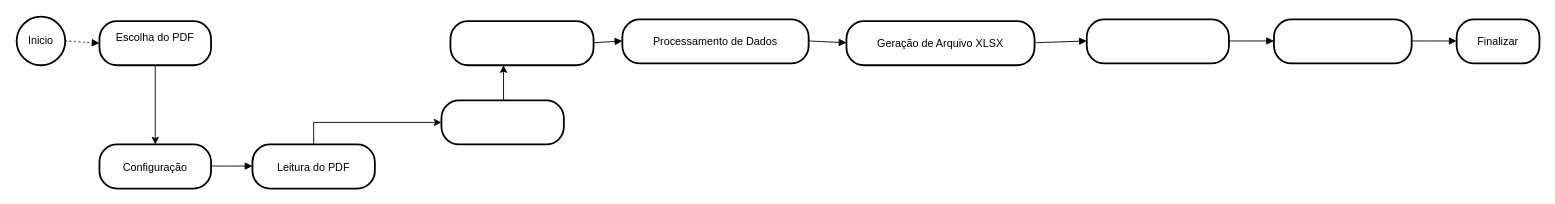
Some shapes in this 1555 by 204 pixel diagram are drawn without their labels. Each missing label, with the centre of its shape:
"Edição do Arquivo" goes at point (1157, 41).
"Escolha do molde xlxs" goes at point (502, 122).
"Extração de Texto" goes at point (521, 43).
"Salvar alterações" goes at point (1342, 41).
